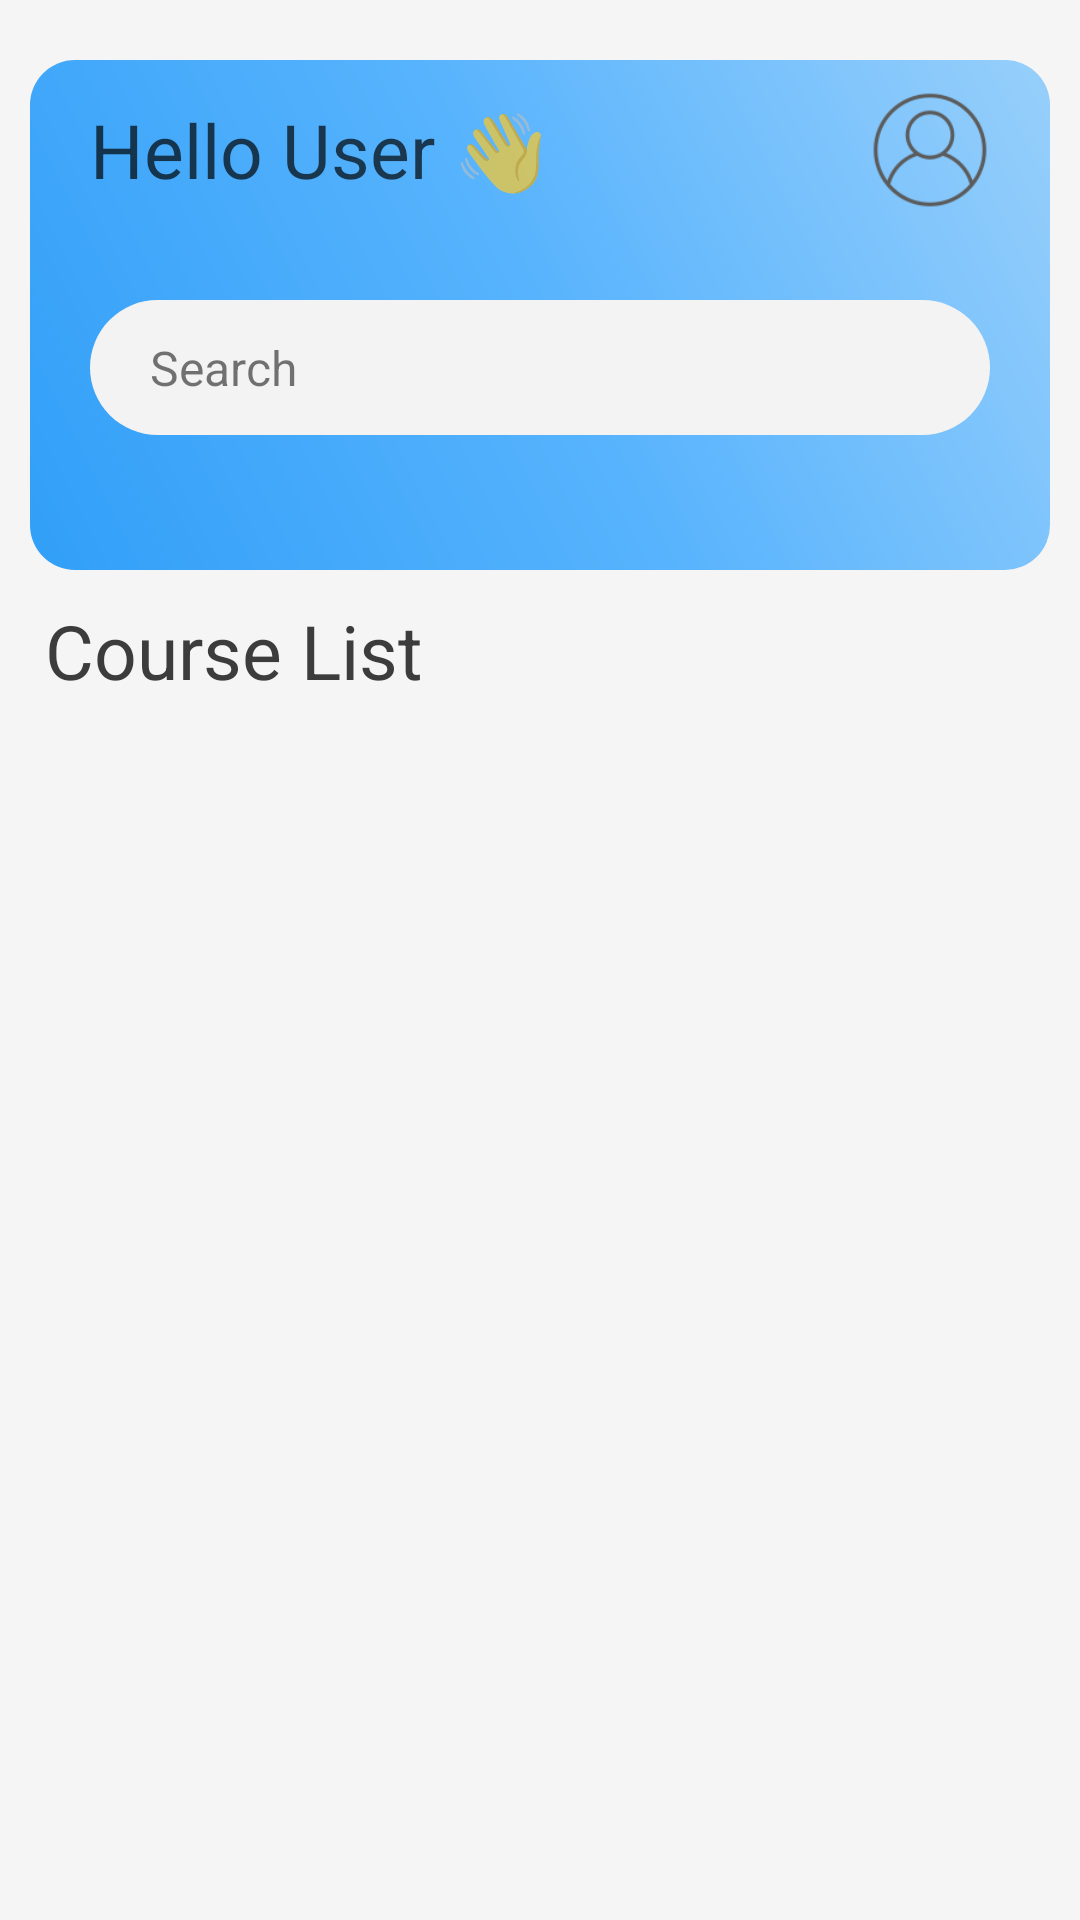

Icon bounding boxes for this 1080x1920 phone screenshot, format box(x1, y1, x2, y2):
user: box(873, 93, 987, 207)
